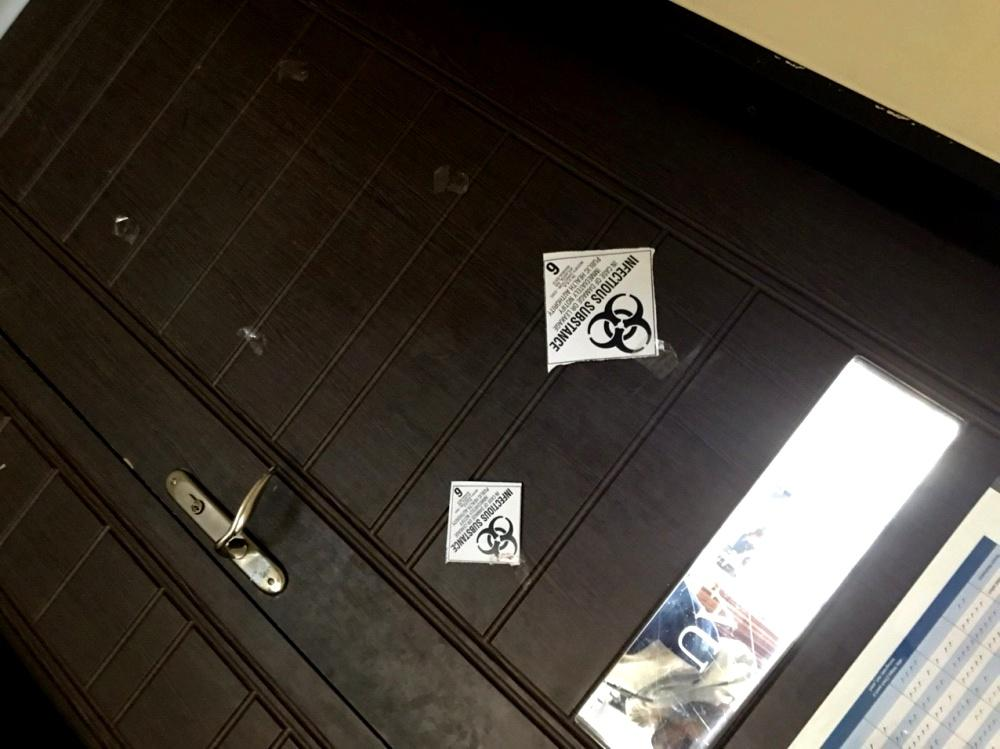infectious-substance: (538, 246, 657, 365), (443, 478, 521, 566)
